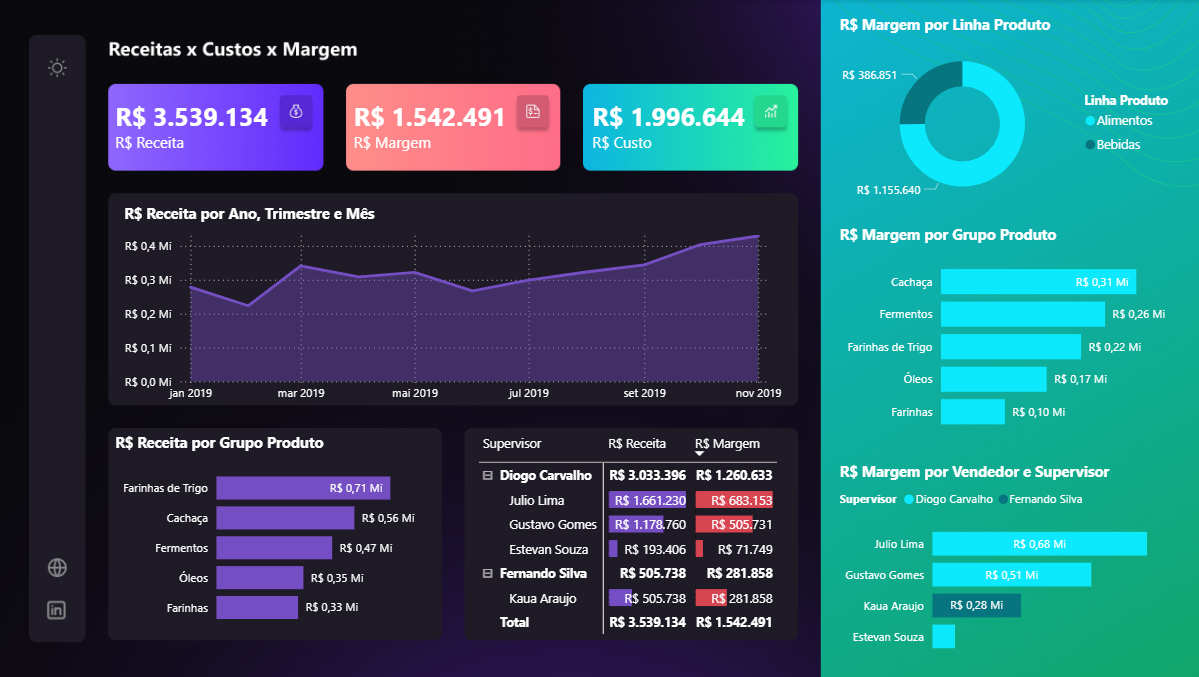

The page's visual inventory and layout, read from the dashboard file:
{"tool":"powerbi","page":{"name":"Dashboard","canvas":[1280,720],"ordinal":0},"visuals":[{"type":"clusteredBarChart","fields":{"Category":["Produto.Grupo Produto"],"Y":["Vendas.R$ Receita"]},"box":[122.4,459.4,345.6,216],"z":0},{"type":"pivotTable","fields":{"Rows":["Vendas.Supervisor","Vendas.Vendedor"],"Values":["Vendas.R$ Receita","Vendas.R$ Margem"]},"box":[506.9,452.2,345.6,229],"z":1000},{"type":"areaChart","fields":{"Y":["Vendas.R$ Receita"],"Category":["Vendas.Data.Variation.Hierarquia de datas.Ano","Vendas.Data.Variation.Hierarquia de datas.Trimestre","Vendas.Data.Variation.Hierarquia de datas.Mês","Vendas.Data.Variation.Hierarquia de datas.Dia"]},"box":[132.5,216,707,218.9],"z":2000},{"type":"donutChart","fields":{"Category":["Produto.Linha Produto"],"Y":["Vendas.R$ Margem"]},"box":[891.4,15.8,374.4,211.7],"z":3000},{"type":"barChart","fields":{"Category":["Produto.Grupo Produto"],"Y":["Vendas.R$ Margem"]},"box":[891.4,239,374.4,231.8],"z":4000},{"type":"barChart","fields":{"Y":["Vendas.R$ Margem"],"Category":["Vendas.Vendedor"],"Series":["Vendas.Supervisor"]},"box":[891.4,489.6,374.4,217.4],"z":5000},{"type":"multiRowCard","fields":{"Values":["Vendas.R$ Receita","Vendas.R$ Margem","Vendas.R$ Custo"]},"box":[122.4,100.8,769,89.3],"z":6000}]}

Visuals, with their boxes on the page's 1280x720 design canvas (x1, y1, x2, y2). These are canvas units, not pixel positions in the 1199x677 screenshot, which may show the page scaled, cropped or inside an application window:
clusteredBarChart - Produto.Grupo Produto x Vendas.R$ Receita: bbox=(122, 459, 468, 675)
pivotTable - Vendas.Supervisor x Vendas.Vendedor: bbox=(507, 452, 852, 681)
areaChart - Vendas.R$ Receita x Vendas.Data.Variation.Hierarquia de datas.Ano: bbox=(132, 216, 840, 435)
donutChart - Produto.Linha Produto x Vendas.R$ Margem: bbox=(891, 16, 1266, 228)
barChart - Produto.Grupo Produto x Vendas.R$ Margem: bbox=(891, 239, 1266, 471)
barChart - Vendas.R$ Margem x Vendas.Vendedor: bbox=(891, 490, 1266, 707)
multiRowCard - Vendas.R$ Receita x Vendas.R$ Margem: bbox=(122, 101, 891, 190)
